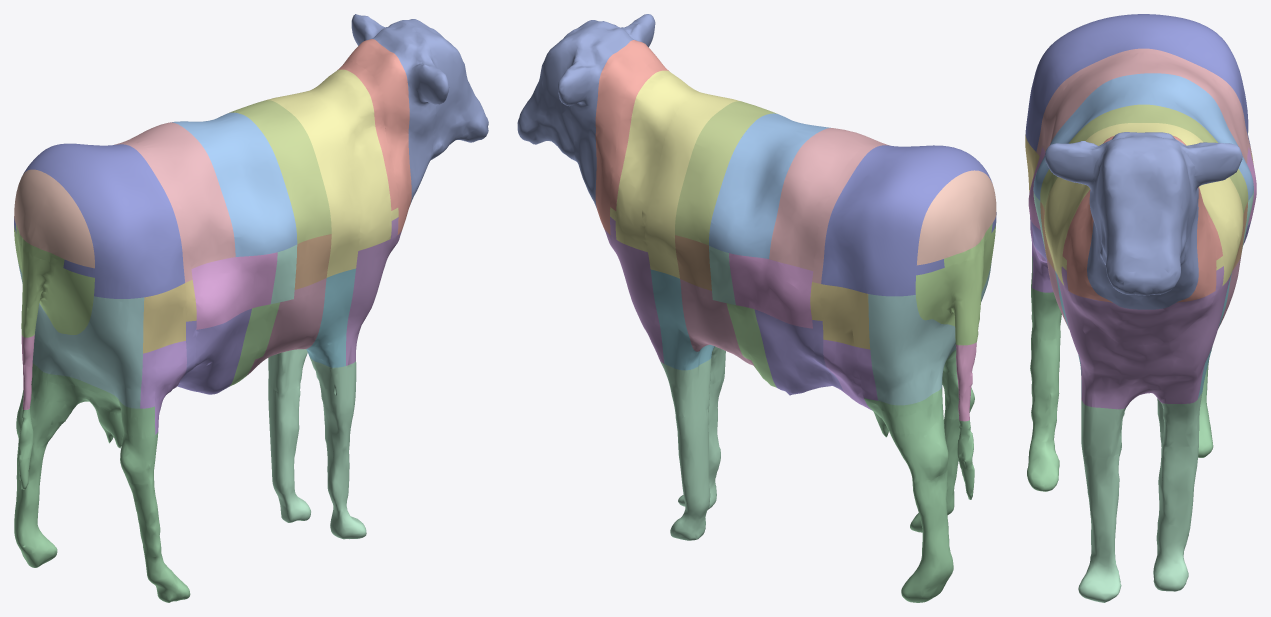
The picture shows the model from 3 angles, left to right: view 1: azimuth 30°, elevation 25°; view 2: azimuth 150°, elevation 25°; view 3: azimuth 270°, elevation 25°; orthographic projection. The views are drawn at different scales.
Parts seen in each view (by area): view 1: kostrets, golyashka, lopatka, zarez, rulka, tonkiy-kray, okovalok, shchup, sheya, tolstyy-kray, ssek, hvost (+11 smaller); view 2: kostrets, lopatka, golyashka, zarez, tonkiy-kray, okovalok, shchup, rulka, sheya, tolstyy-kray, ssek, hvost (+11 smaller); view 3: zarez, plechevaya-chast, rulka, kostrets, okovalok, golyashka, tonkiy-kray, lopatka, sheya, tolstyy-kray, podbederok, vyrezka (+6 smaller).
Boxes of the visible parts, x1,y1,x2,y2 form: kostrets: (14, 143, 184, 298); golyashka: (14, 363, 190, 602); lopatka: (266, 69, 398, 277); zarez: (351, 14, 488, 204); rulka: (268, 349, 366, 539); tonkiy-kray: (170, 112, 297, 256); okovalok: (114, 122, 235, 282); shchup: (18, 261, 144, 408); sheya: (338, 39, 411, 234); tolstyy-kray: (229, 100, 331, 243); ssek: (14, 225, 94, 337); hvost: (14, 169, 94, 268); kostrets: (821, 145, 996, 296); lopatka: (610, 70, 740, 278); golyashka: (864, 350, 974, 602); zarez: (517, 14, 655, 208); tonkiy-kray: (709, 113, 830, 258); okovalok: (769, 128, 889, 283); shchup: (868, 262, 991, 405); rulka: (660, 346, 725, 540); sheya: (595, 40, 669, 234); tolstyy-kray: (675, 101, 777, 245); ssek: (915, 223, 995, 345); hvost: (917, 170, 996, 265); zarez: (1045, 132, 1242, 309); plechevaya-chast: (1057, 266, 1231, 409); rulka: (1078, 393, 1202, 602); kostrets: (1025, 14, 1251, 151); okovalok: (1036, 48, 1251, 163); golyashka: (1027, 256, 1213, 491); tonkiy-kray: (1033, 73, 1253, 200); lopatka: (1044, 123, 1243, 285); sheya: (1062, 136, 1222, 302); tolstyy-kray: (1040, 104, 1248, 214); podbederok: (1030, 216, 1053, 292); vyrezka: (1028, 147, 1256, 230).
Bounding box in the file's own units: 1 × 0.995 × 0.4133.
